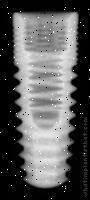NucleOSS: (12, 12, 79, 189)
